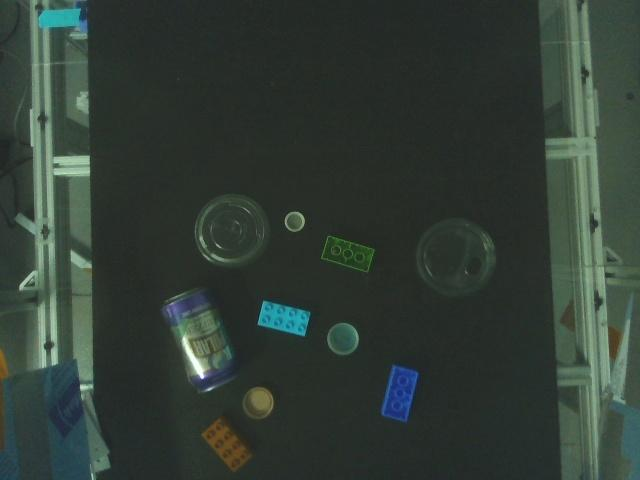metal: (158, 283, 247, 398)
plastic: (413, 214, 499, 301), (192, 191, 274, 271), (198, 411, 256, 474), (378, 363, 421, 426), (319, 234, 377, 275), (255, 298, 313, 339), (324, 319, 361, 358), (241, 385, 276, 421), (283, 209, 306, 234)
